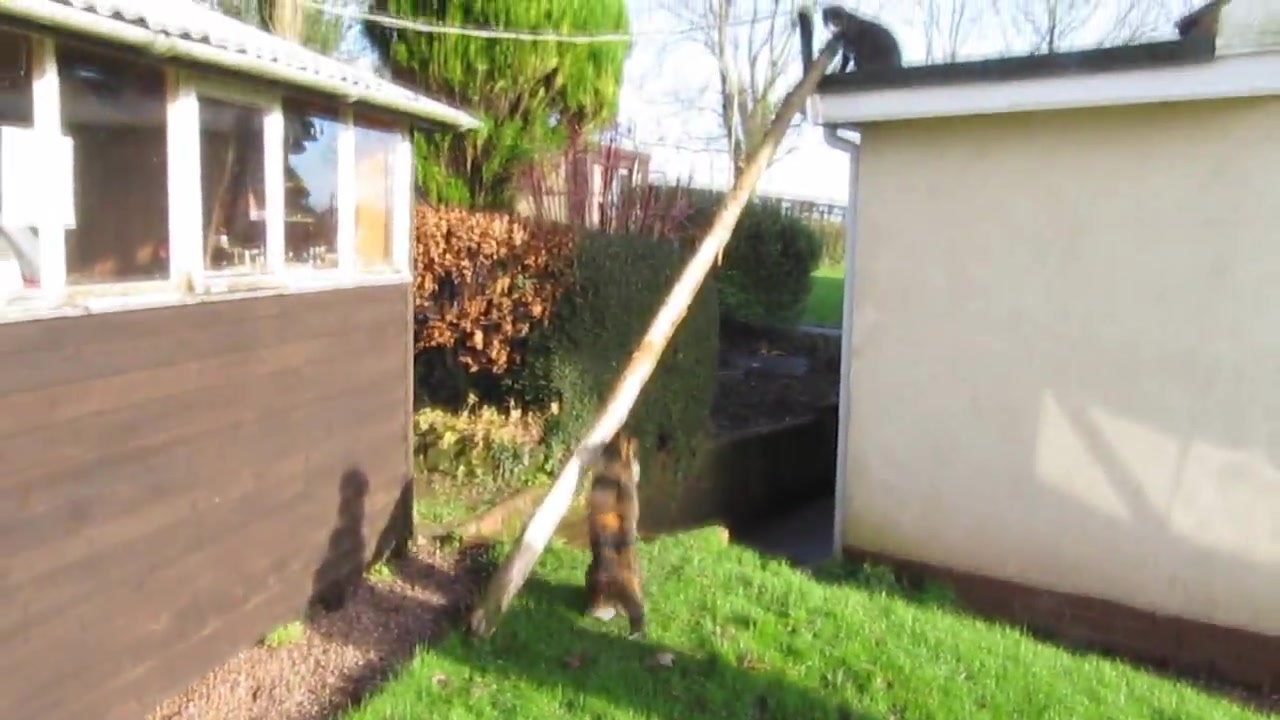cat: (583, 431, 650, 636)
